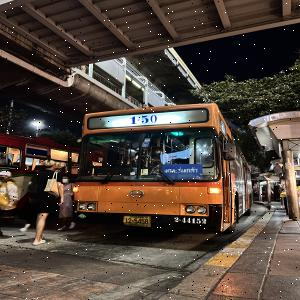BMTA-bus: (62, 104, 253, 233)
Bus Line Number: (127, 115, 159, 126)
Bus Side Number: (170, 215, 209, 226)
Destination Sign: (162, 164, 203, 179)
